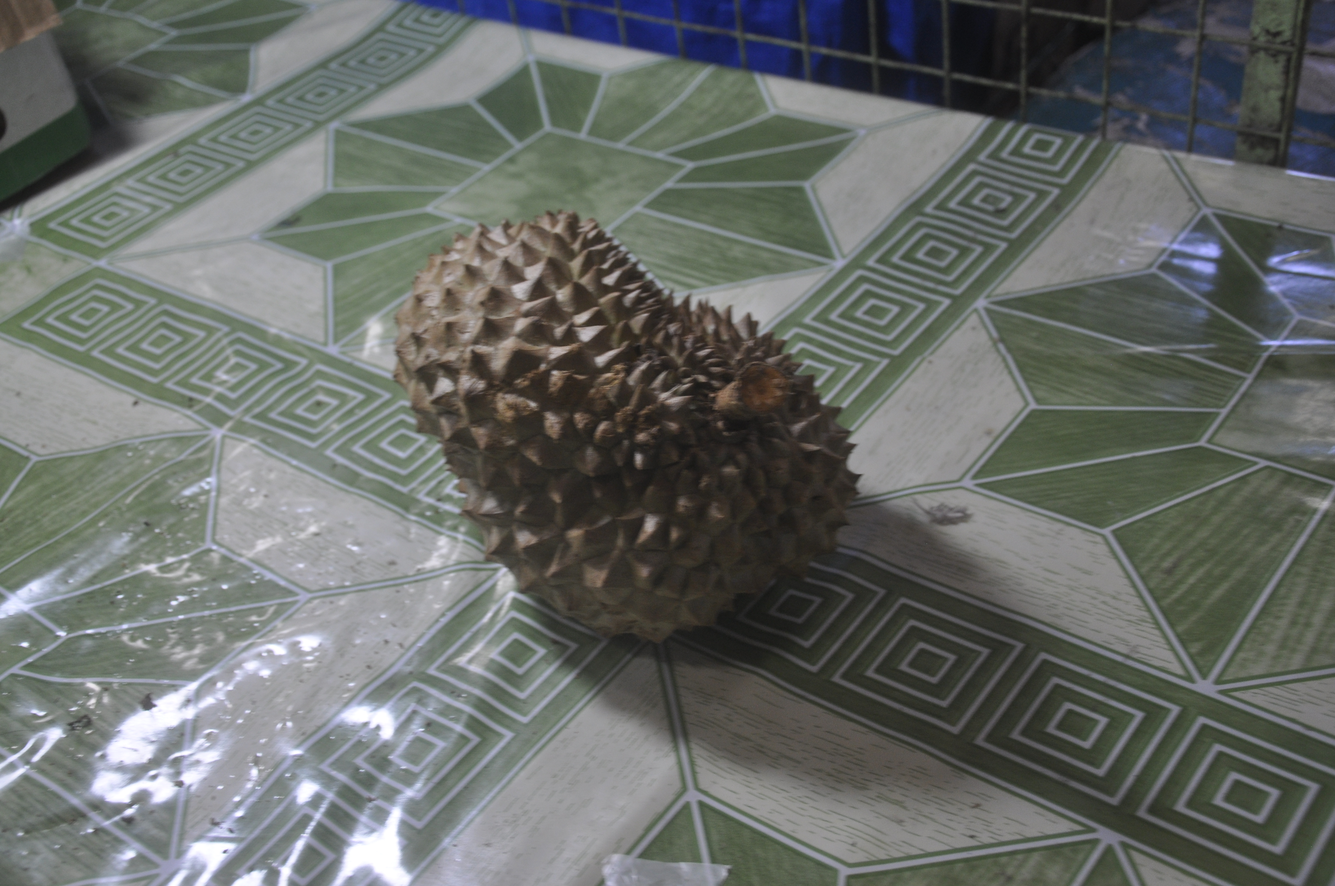mature: (347, 162, 878, 674)
